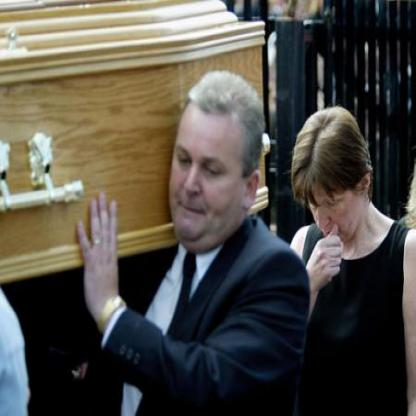face: (169, 73, 255, 253), (304, 130, 362, 248)
